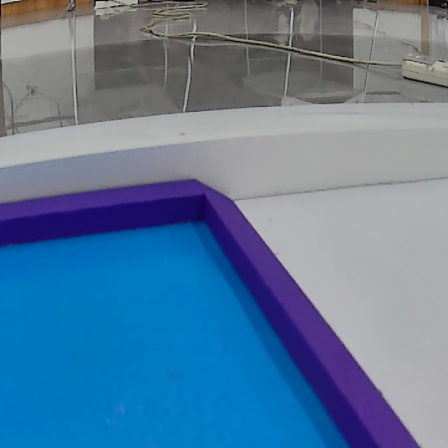blue_aim: (3, 179, 424, 448)
